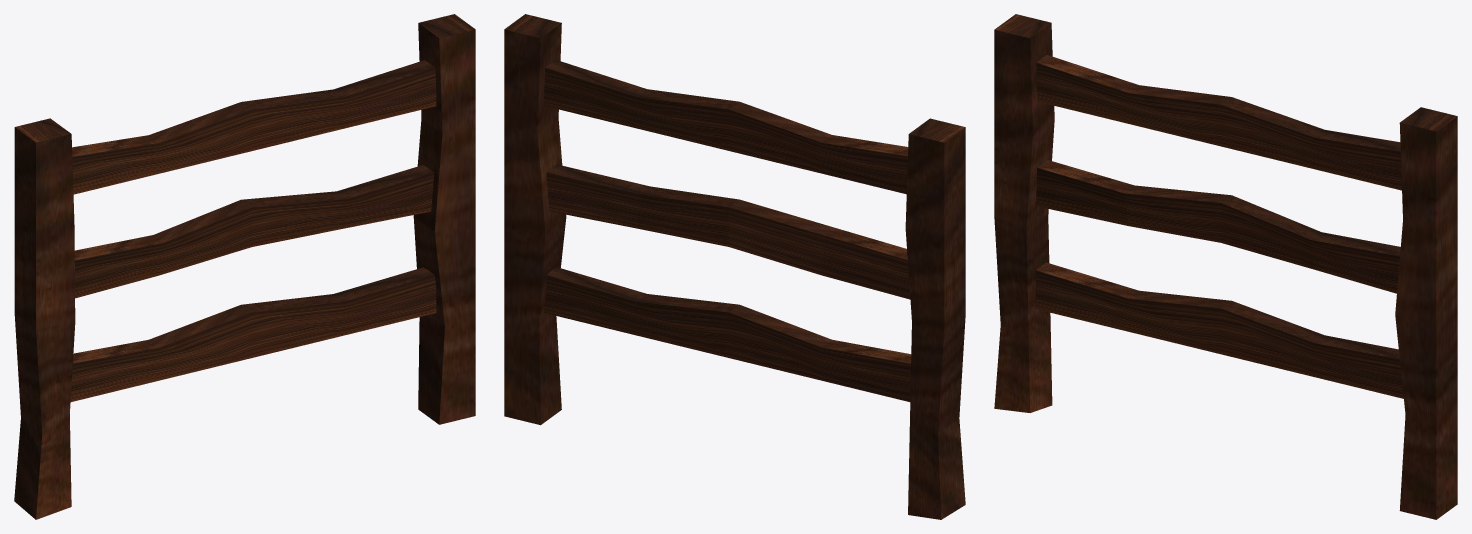
File: darkfencebent.fbx
3 views of the same model, side by side, from view 1: azimuth 30°, elevation 25°; view 2: azimuth 150°, elevation 25°; view 3: azimuth 330°, elevation 25° (orthographic).
Parts seen in each view (by area): view 1: Cube.014, Cube.013, Cube.010, Cube.012, Cube.011; view 2: Cube.014, Cube.013, Cube.011, Cube.010, Cube.012; view 3: Cube.013, Cube.014, Cube.010, Cube.012, Cube.011.
Boxes of the visible parts, x1,y1,x2,y2 form: Cube.014: [14, 118, 75, 519]; Cube.013: [413, 14, 475, 424]; Cube.010: [70, 267, 436, 401]; Cube.012: [72, 60, 436, 194]; Cube.011: [74, 165, 434, 298]; Cube.014: [905, 118, 965, 519]; Cube.013: [504, 14, 566, 425]; Cube.011: [546, 164, 910, 299]; Cube.010: [544, 267, 911, 401]; Cube.012: [544, 60, 908, 194]; Cube.013: [1395, 107, 1457, 519]; Cube.014: [994, 14, 1054, 412]; Cube.010: [1035, 262, 1403, 398]; Cube.012: [1036, 55, 1401, 190]; Cube.011: [1036, 160, 1400, 293].
Bounding box in the file's own units: 595 × 500 × 62.75.
